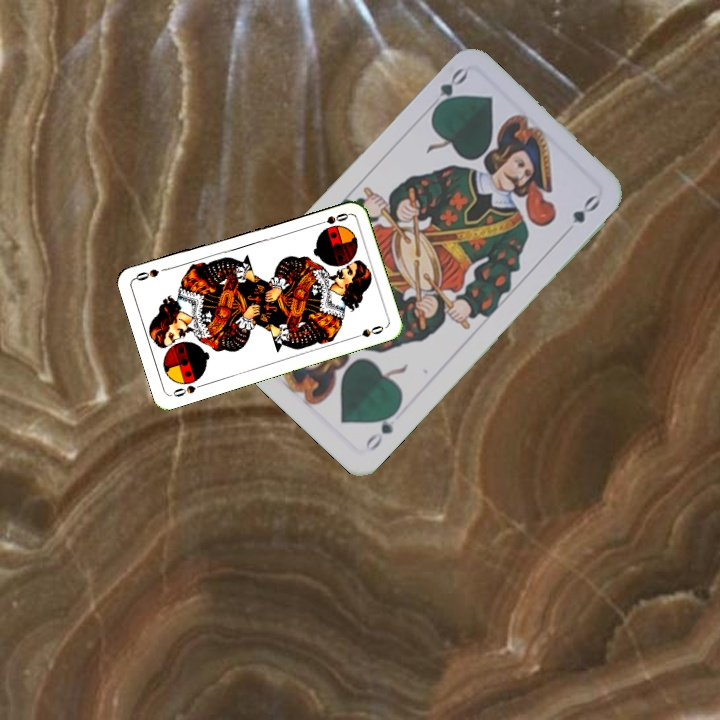GO: (428, 64, 470, 117), (361, 403, 402, 454)
SO: (311, 209, 351, 228), (168, 380, 207, 399)
